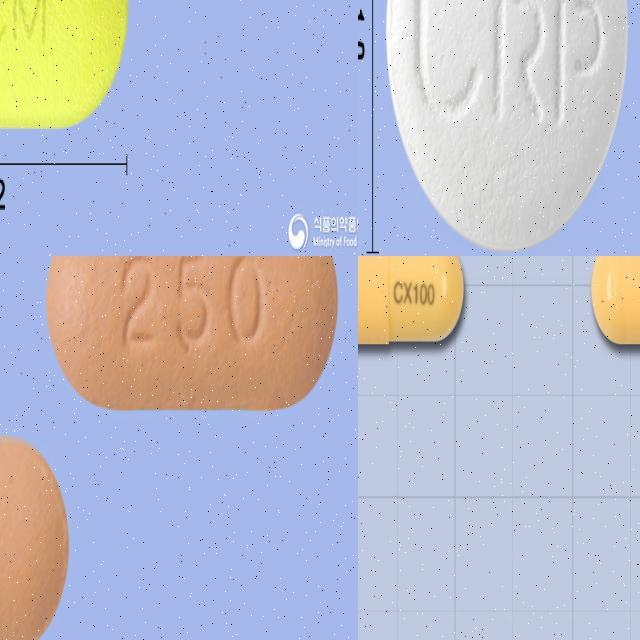Cefixime Cap- Nelson: (358, 256, 468, 353), (587, 256, 640, 350)
Ciropan: (382, 0, 634, 256)
Claritin: (0, 0, 129, 131)
Cravit - 500mg: (45, 256, 339, 411), (0, 434, 69, 640)
